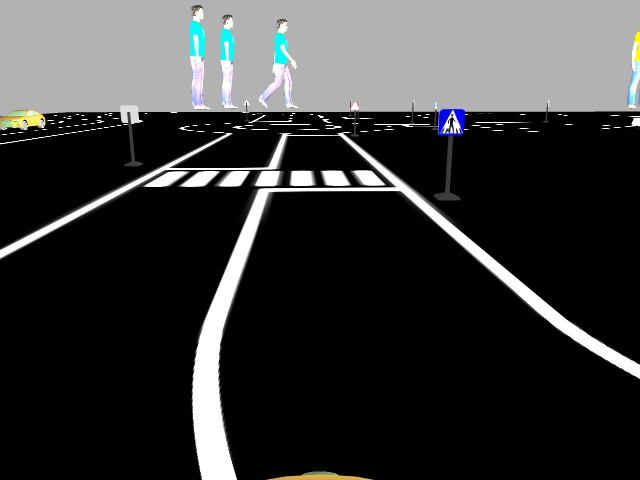Crosswalk: (437, 109, 465, 137)
